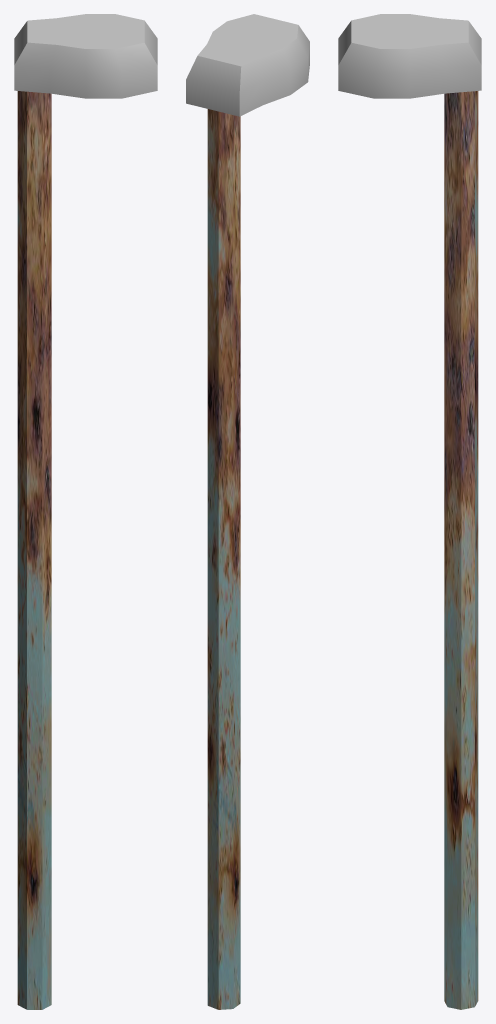
Rendered from ShadowExample.fbx.
3 renders of one model, left to right at view 1: azimuth 90°, elevation 25°; view 2: azimuth 150°, elevation 25°; view 3: azimuth 270°, elevation 25°, orthographic. The views are drawn at different scales.
Parts seen in each view (by area): view 1: pCylinder1, pCube1; view 2: pCylinder1, pCube1; view 3: pCylinder1, pCube1.
Part boxes in pixels (x1,y1,x2,y2): pCylinder1: (17, 91, 51, 1009); pCube1: (14, 14, 157, 98); pCylinder1: (207, 109, 240, 1009); pCube1: (186, 14, 309, 116); pCylinder1: (444, 91, 478, 1009); pCube1: (338, 14, 481, 98).
Size of what is drawn, in the model's own units: 1 by 10.53 by 1.41.
